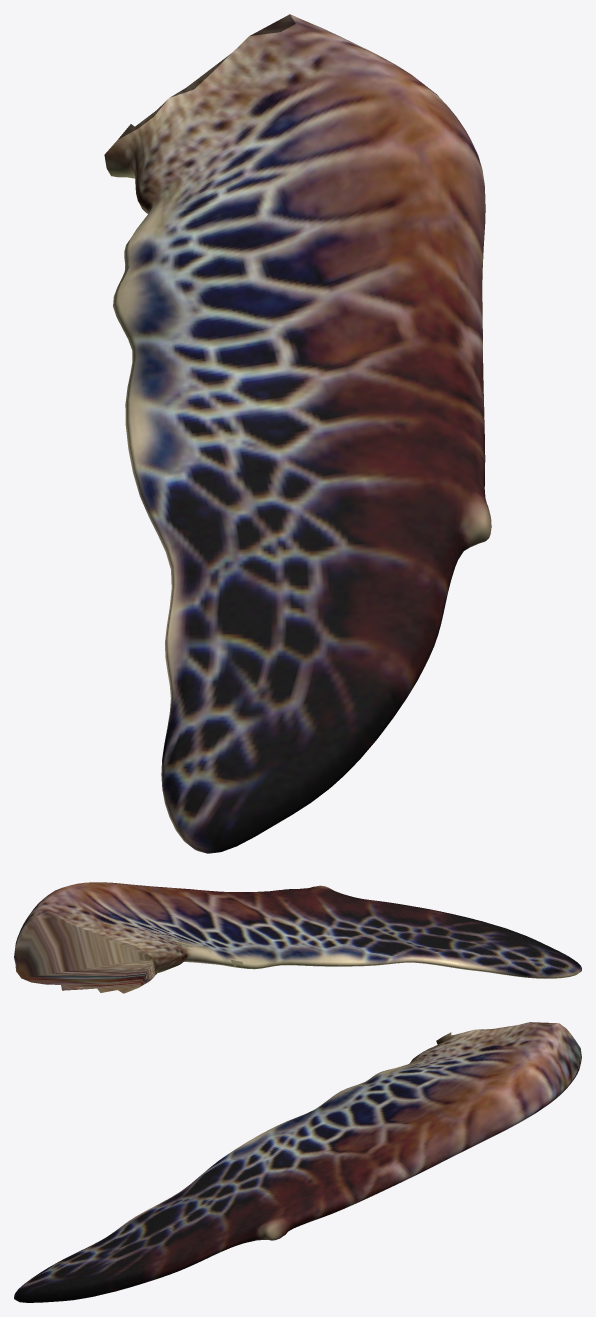
File: AletaDer.obj
3 renders of one model, top to bottom at view 1: azimuth 30°, elevation 25°; view 2: azimuth 150°, elevation 25°; view 3: azimuth 330°, elevation 25°, orthographic. The views are drawn at different scales.
Parts seen in each view (by area): view 1: AletaDer; view 2: AletaDer; view 3: AletaDer.
Boxes of the visible parts, left/top/right/bottom form: AletaDer: left=104, top=14, right=491, bottom=853; AletaDer: left=14, top=882, right=581, bottom=993; AletaDer: left=14, top=1022, right=581, bottom=1302.
Size of the model in its own units: 6.27 by 2.97 by 8.63.
